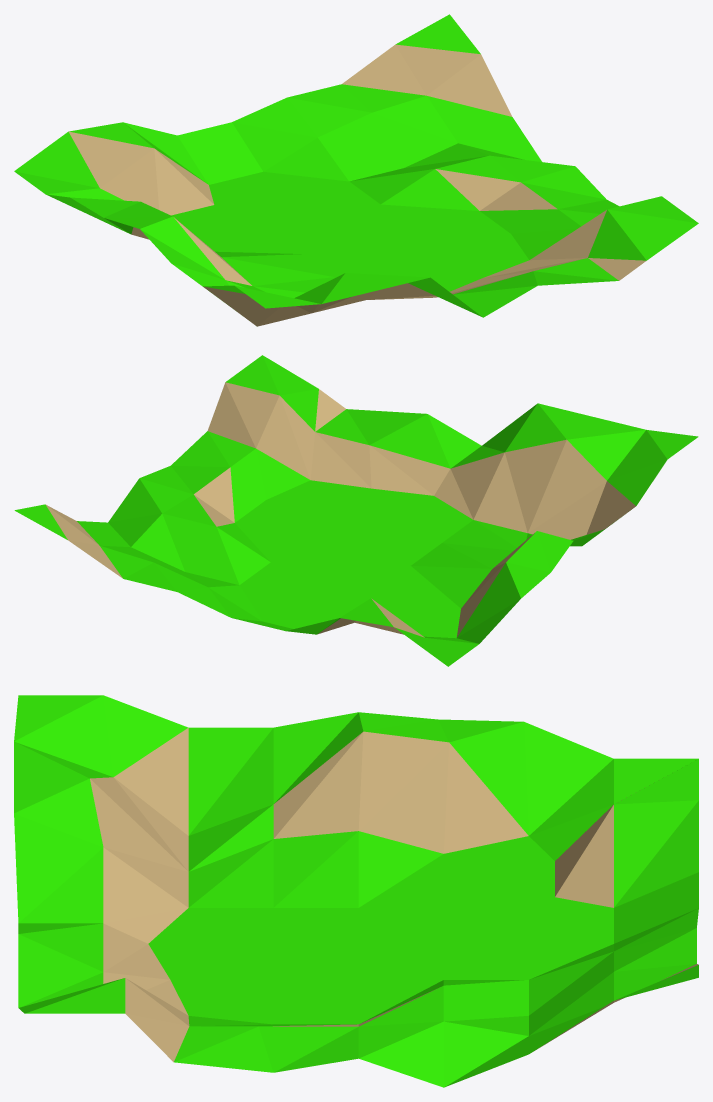
Rendered from plains1.glb.
The picture shows the model from 3 angles, top to bottom: view 1: azimuth 30°, elevation 25°; view 2: azimuth 150°, elevation 25°; view 3: azimuth 270°, elevation 25°; orthographic projection. The views are drawn at different scales.
Parts seen in each view (by area): view 1: Plane; view 2: Plane; view 3: Plane.
Boxes of the visible parts, <box> form: Plane: <box>14,14,698,326</box>; Plane: <box>14,355,698,666</box>; Plane: <box>14,695,698,1087</box>.
Size of the model in its own units: 751 by 131 by 742.
